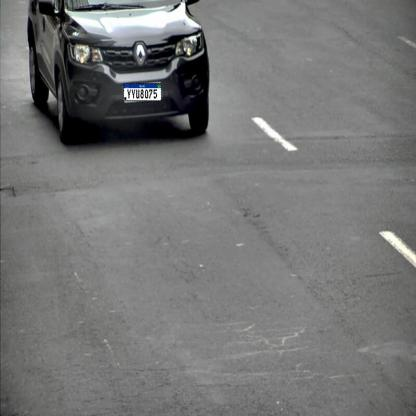PlacaM: (123, 83, 162, 101)
